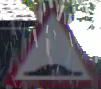Speed Breaker ahead: (8, 7, 100, 88)
